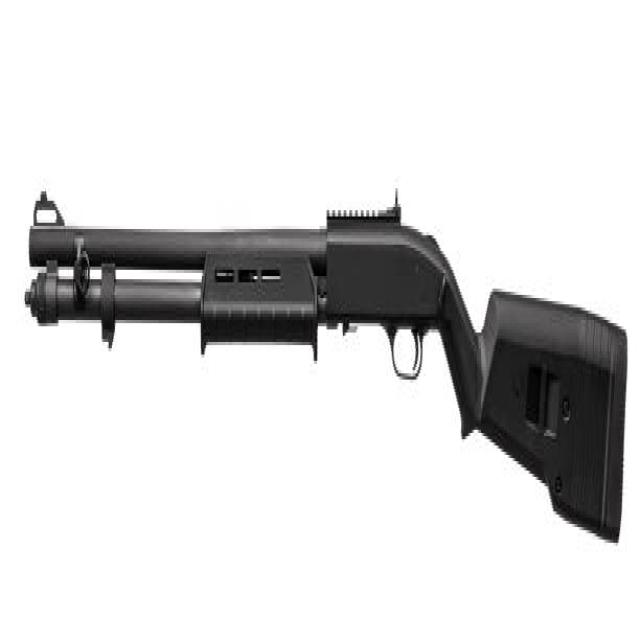rifle: (19, 164, 630, 567)
